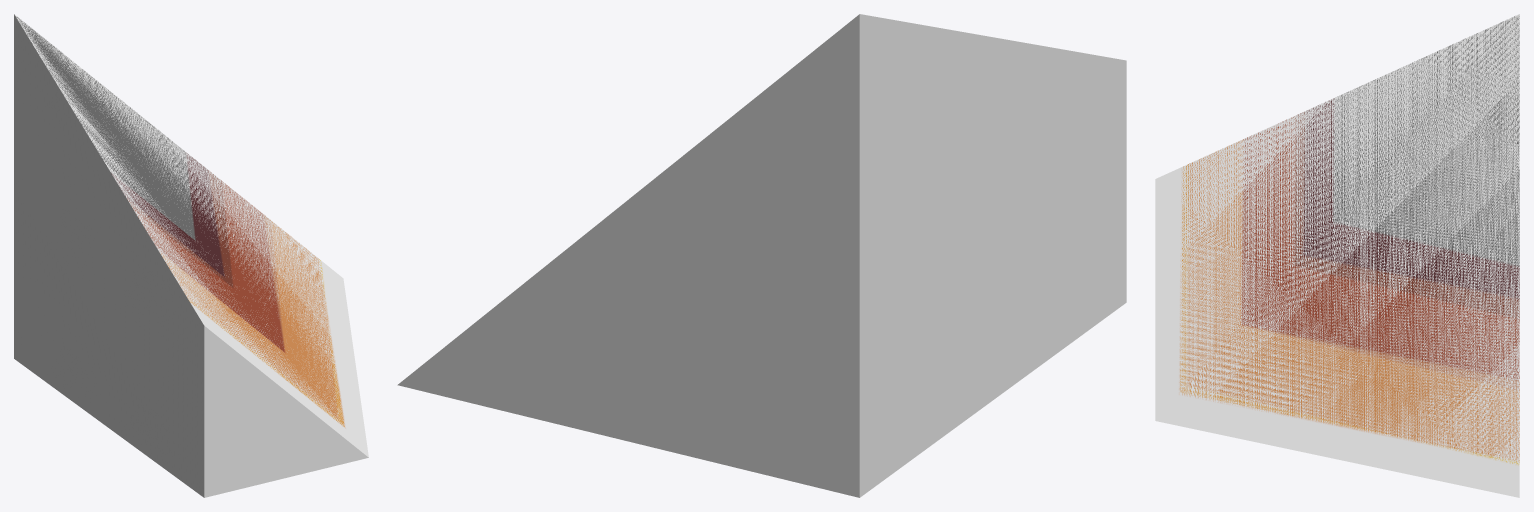
The model's file is r5c2_border_white.gltf.
3 views of the same model, side by side, from view 1: azimuth 30°, elevation 25°; view 2: azimuth 150°, elevation 25°; view 3: azimuth 270°, elevation 25° (orthographic). The views are drawn at different scales.
Parts seen in each view (by area): view 1: r5c2_border_white; view 2: r5c2_border_white; view 3: r5c2_border_white.
Part boxes in pixels (box(x1,y1,x2,y2)): r5c2_border_white: box(14, 14, 368, 497); r5c2_border_white: box(397, 14, 1126, 497); r5c2_border_white: box(1155, 14, 1519, 497).
Size of the model in its own units: 2.1 by 2.1 by 2.1.
1 material, 1 textured.
